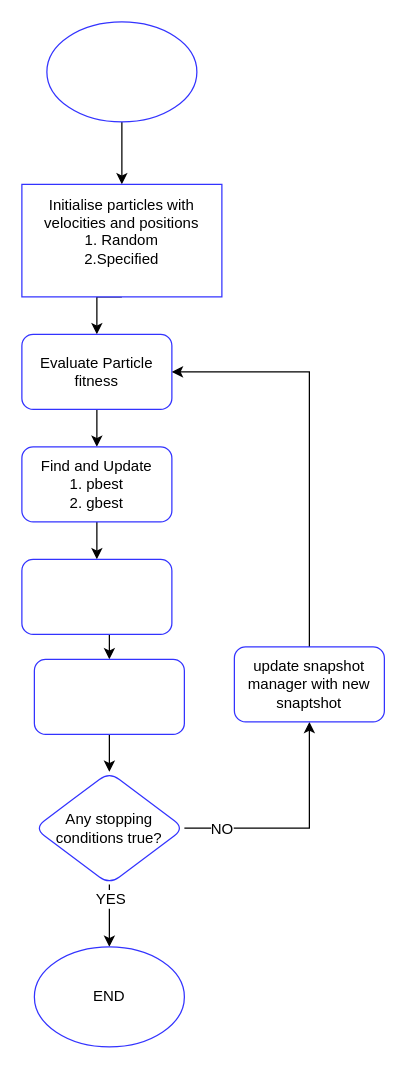
This 406x1069 diagram has some shape labels left out. Here are the shapes that lost their labels. From the top down, the centre of each, then its label:
At (121,71): "START".
At (96,596): "Calculate and update velocity of particles".
At (108,696): "Calculate and update positions of particles".
